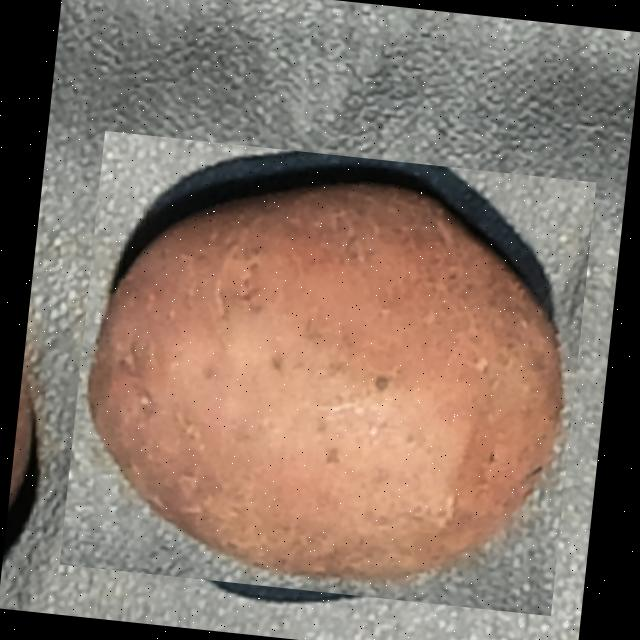Diseased-fungal potato: (59, 130, 596, 616)
